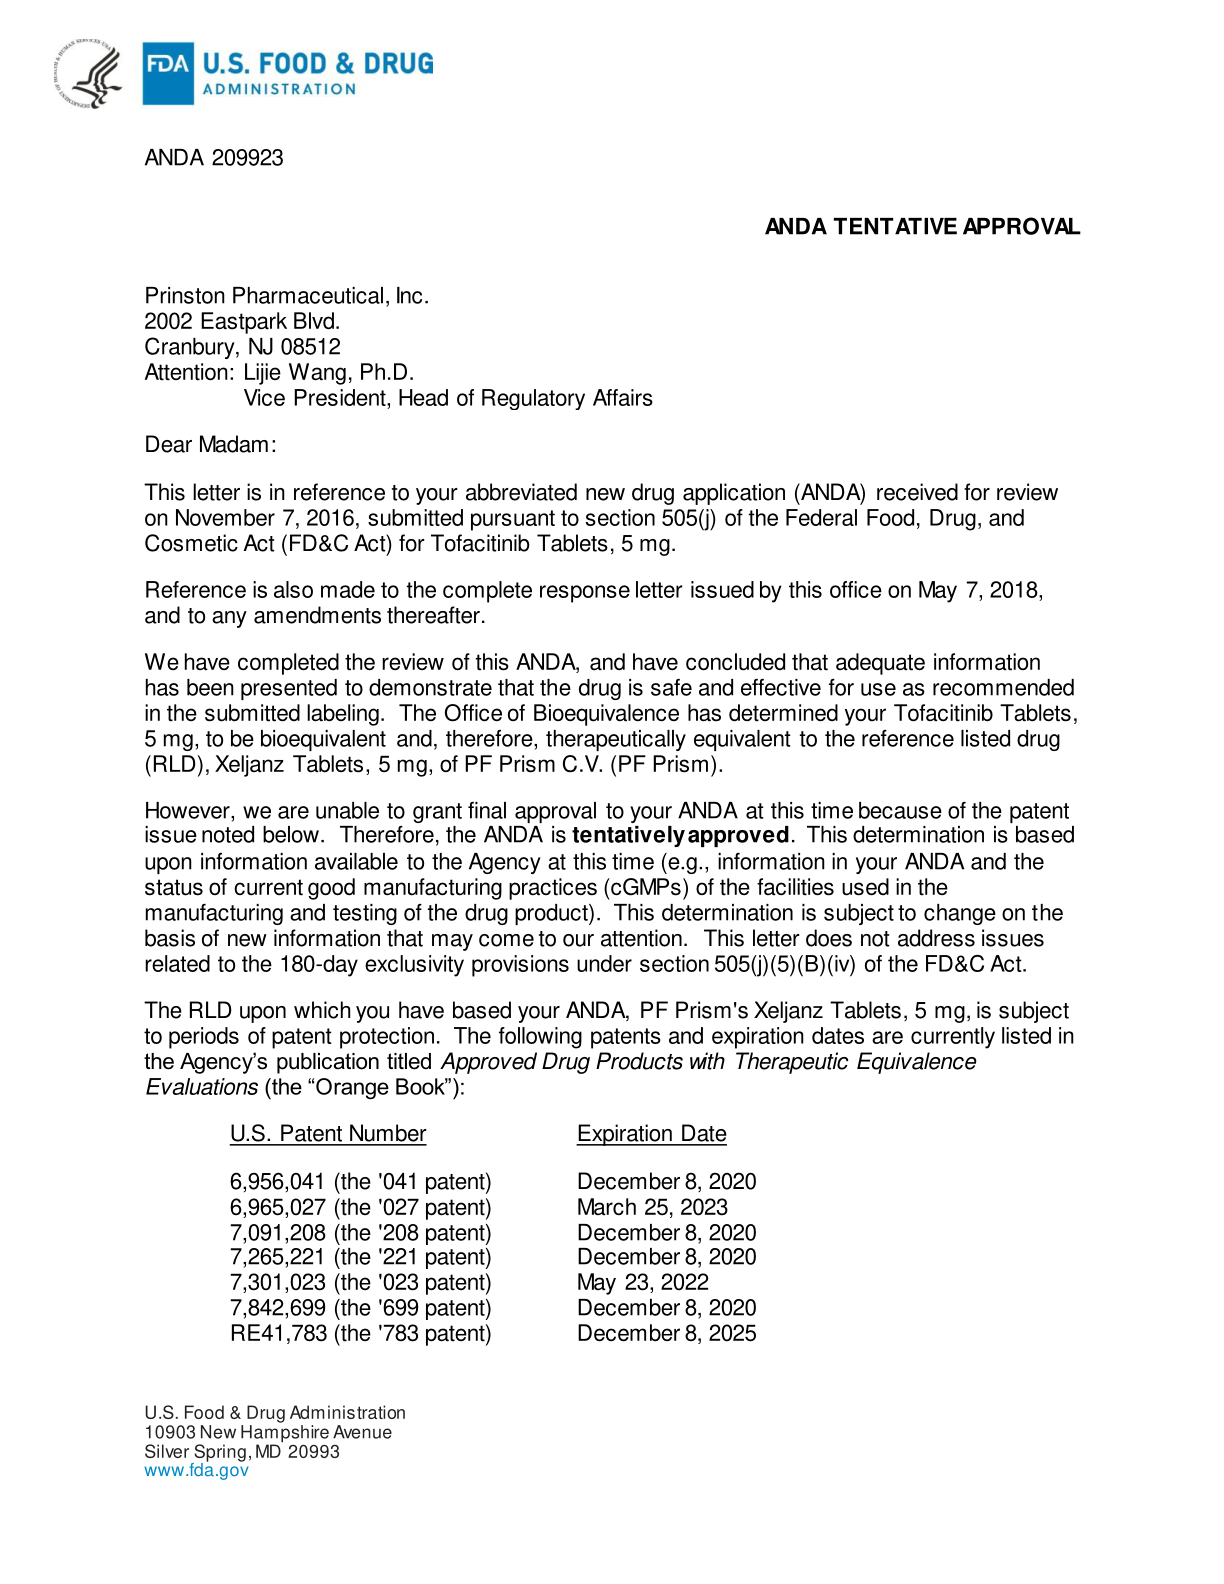nolines: (228, 1119, 759, 1347)
